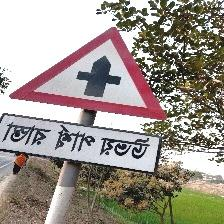Crossroad: (0, 23, 181, 186)
